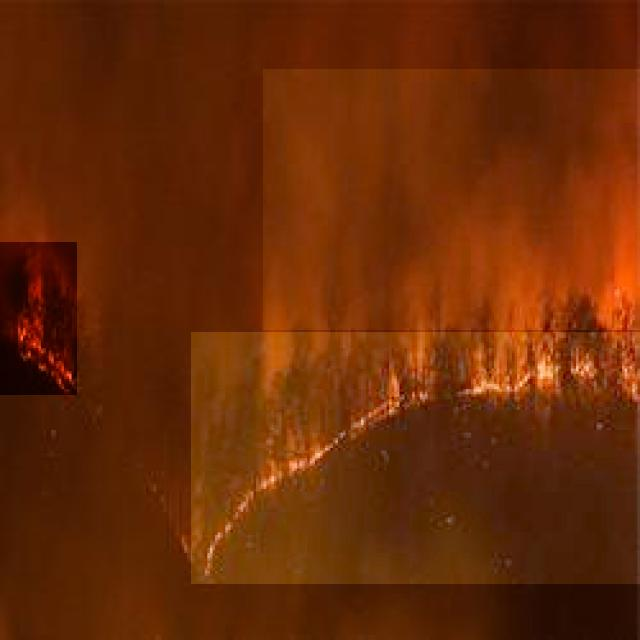Fire: (191, 332, 640, 584), (0, 242, 77, 395)
Smoke: (263, 69, 640, 330)
